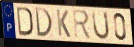0: (113, 12, 127, 42)
D: (34, 6, 54, 39), (16, 6, 34, 37)
K: (56, 9, 72, 39)
R: (72, 8, 93, 40)
U: (92, 10, 111, 42)
